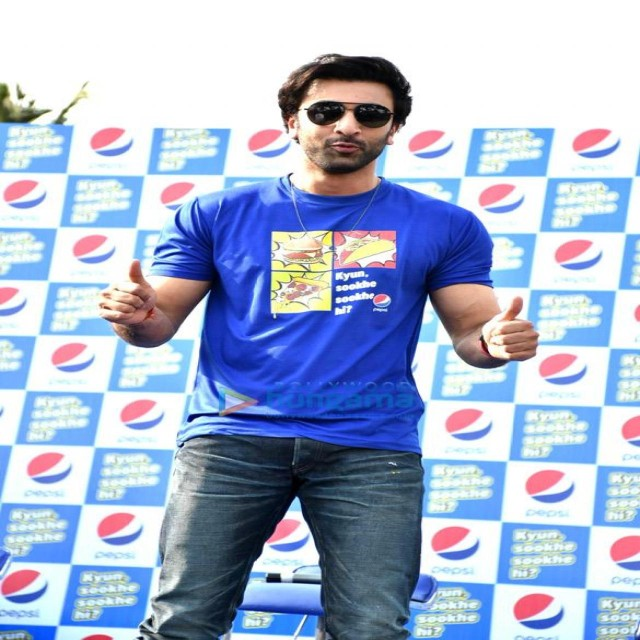pepsi: (509, 585, 569, 632), (532, 349, 604, 387), (441, 404, 498, 446), (526, 464, 579, 507), (550, 234, 609, 272), (438, 405, 497, 443), (112, 398, 172, 435), (66, 232, 122, 271), (473, 181, 528, 219), (47, 341, 104, 376), (84, 126, 139, 159), (570, 130, 622, 160)
